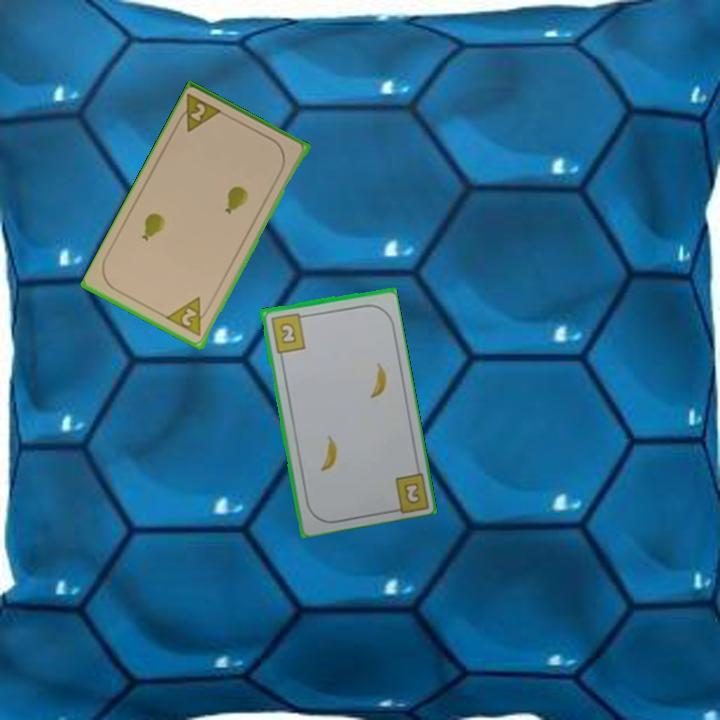2b: (267, 309, 309, 355), (402, 481, 421, 505)
2p: (173, 91, 227, 136), (164, 293, 213, 340)
